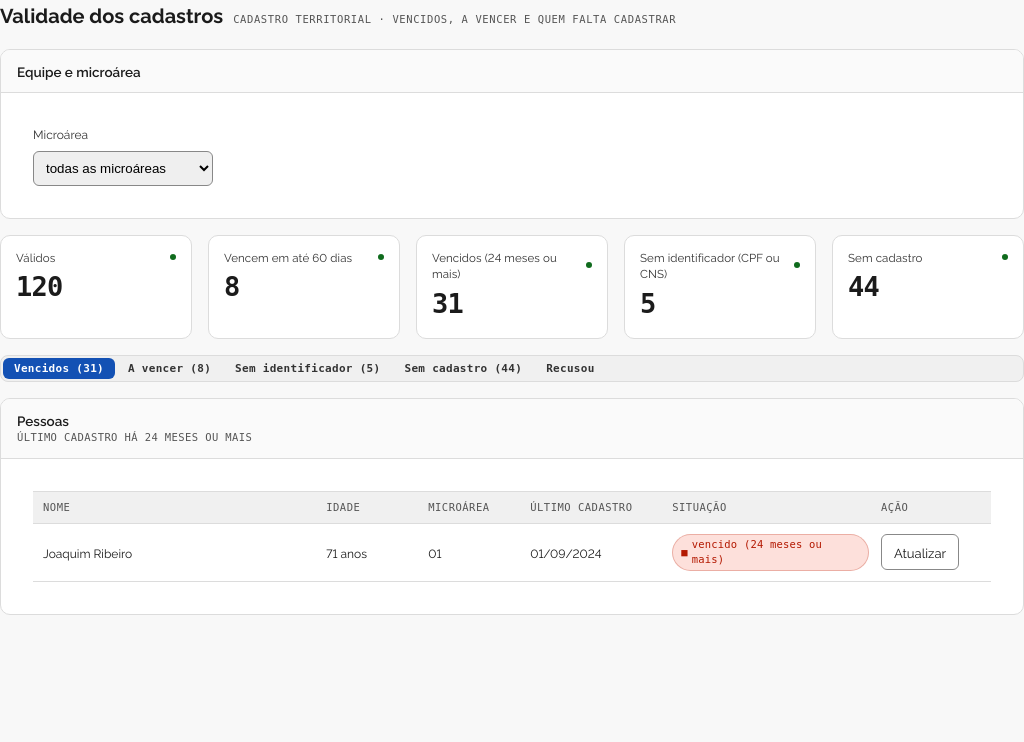
RegistryStatus › a ficha aberta fora da tela (celular): rola até o título e o foca
Click the button with aria-label "Atualizar Joaquim Ribeiro" at (920, 552), box x1=881 y1=534 x2=959 y2=570
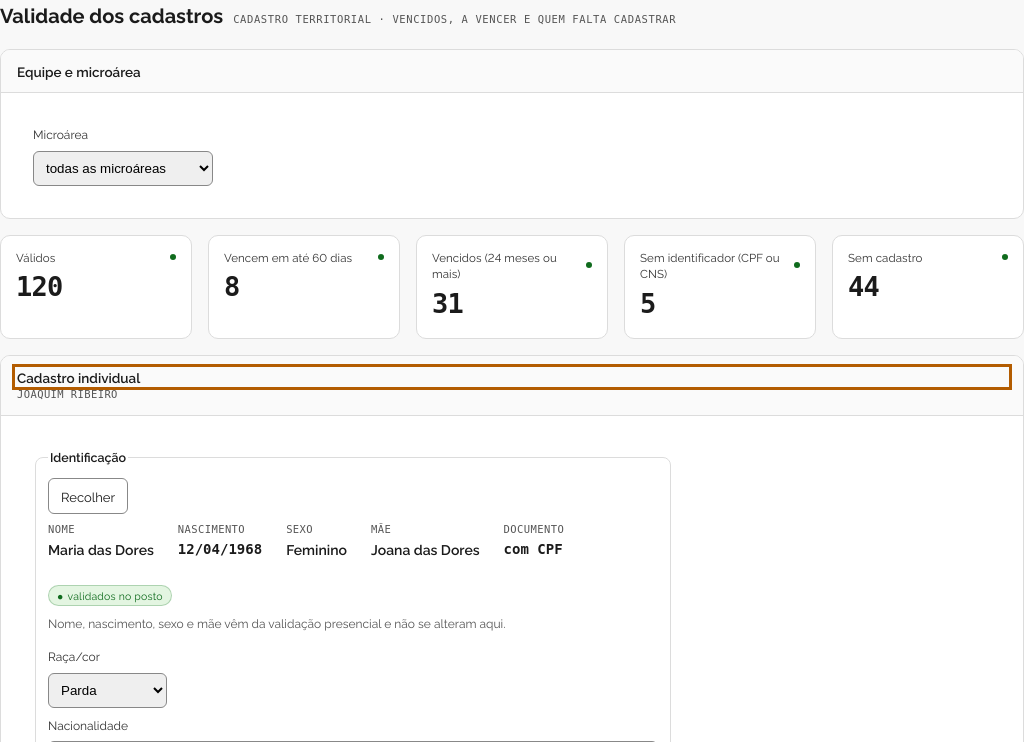
Expected: the heading "Cadastro individual" is shown, x1=17 y1=368 x2=140 y2=386
